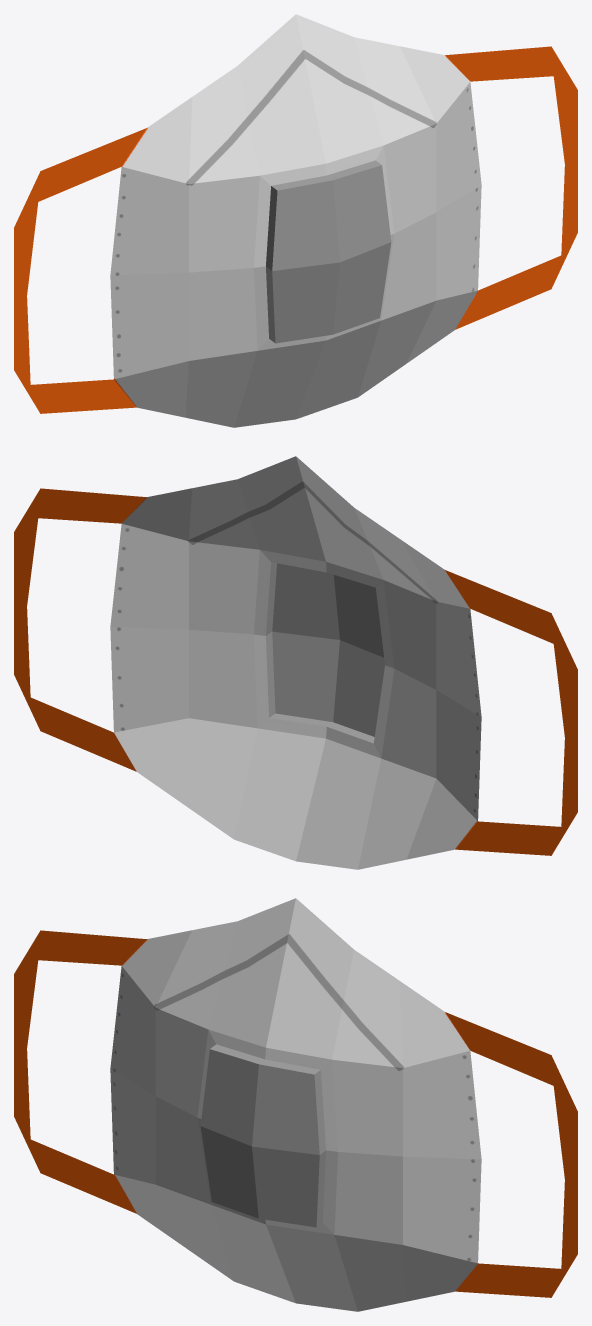
Rendered from tapa bocas medio.fbx.
3 renders of one model, top to bottom at view 1: azimuth 30°, elevation 25°; view 2: azimuth 150°, elevation 25°; view 3: azimuth 330°, elevation 25°, orthographic.
Parts seen in each view (by area): view 1: Plane; view 2: Plane; view 3: Plane.
Part boxes in pixels (left/top/right/bottom): Plane: left=14, top=14, right=577, bottom=427; Plane: left=14, top=456, right=577, bottom=869; Plane: left=14, top=898, right=577, bottom=1311.
Size of the model in its own units: 76.88 by 52.79 by 10.39.
Materials: 1 (1 with a texture image).
